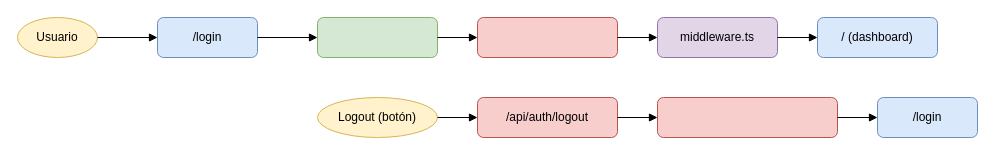
The diagram is 995 pixels wide and 155 high, and some of its shapes have lost their labels. Each missing label, with the centre of its shape:
"/api/auth/login" belongs at point (377, 37).
"Set-Cookie: auth-token" belongs at point (547, 37).
"Set-Cookie: auth-token (vacío)" belongs at point (747, 117).
